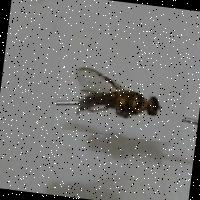Oriental-fruit-fly: (53, 53, 188, 144)
